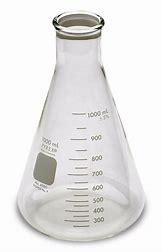Titrarion: (1, 13, 149, 244)
